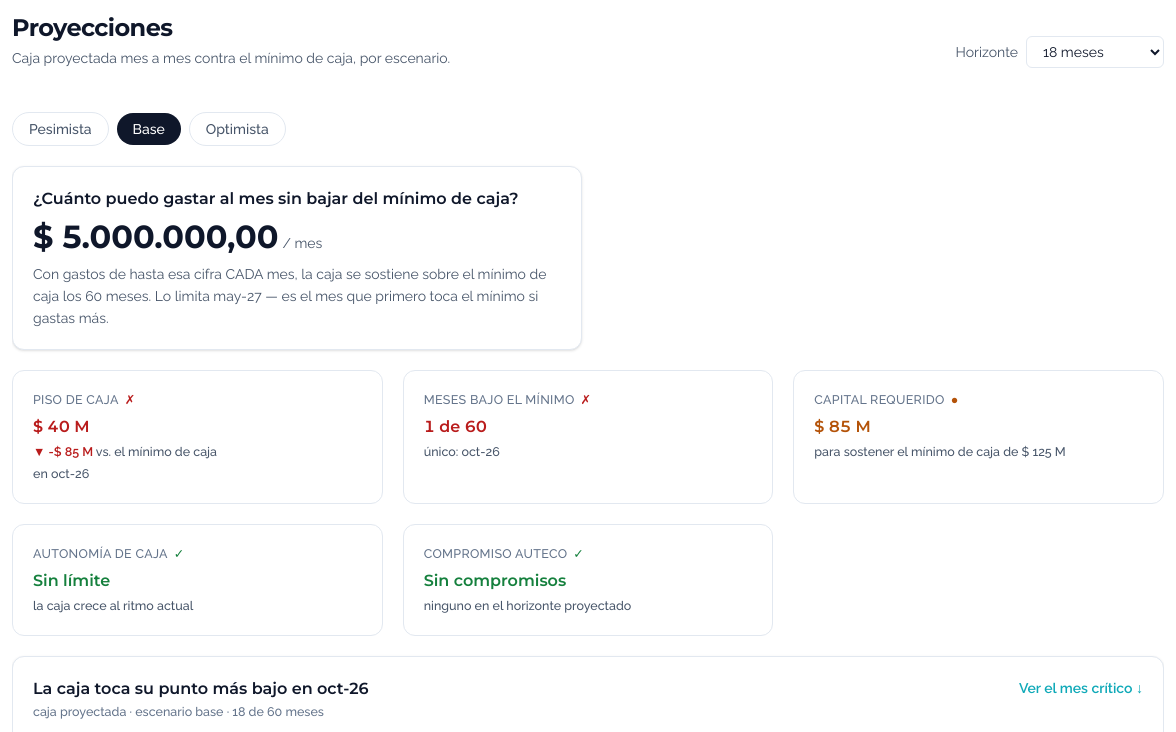
ProyeccionPage — F1.1 §2 › FiltroBarra: cambiar el horizonte muestra 'Limpiar' y restaura el default
Check: the text "Piso de caja" is shown, box [33, 392, 119, 407]
Check: the button "Limpiar" is not shown
Step 1. Select "todo (20 años)" in the dropdown labelled "Horizonte" → coordinates (1095, 52), box [1026, 36, 1164, 68]
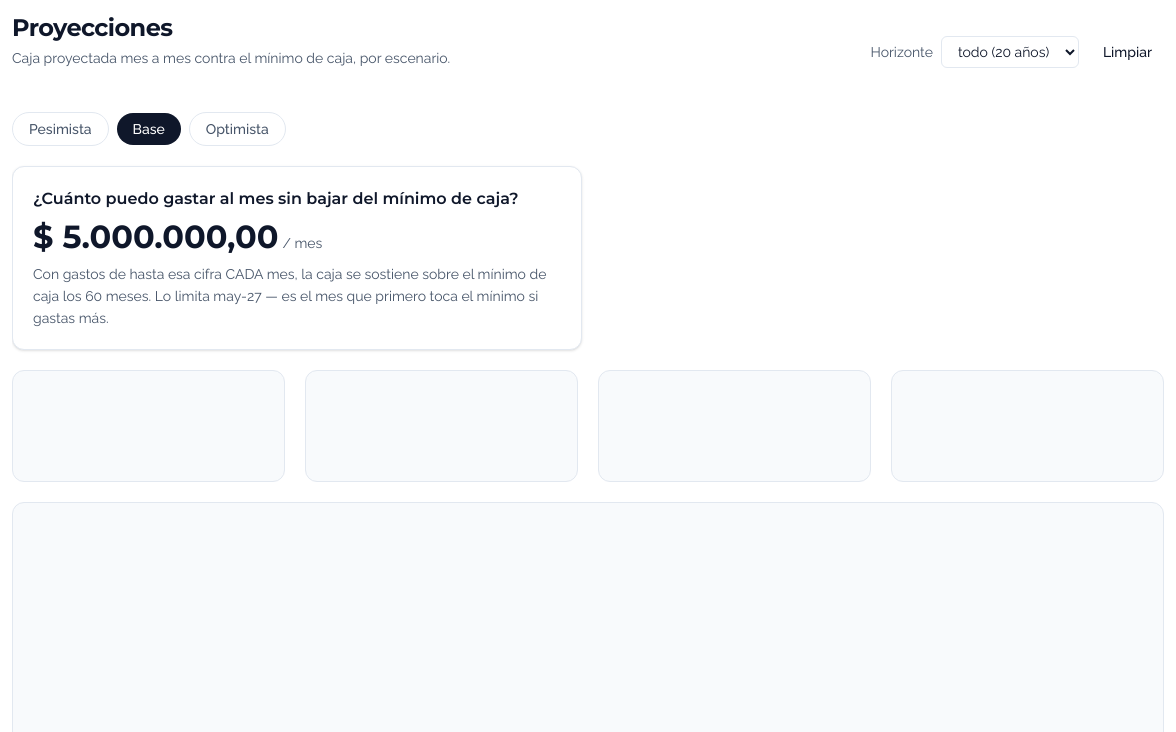
Step 2. Click the button "Limpiar" → coordinates (1127, 52), box [1091, 36, 1164, 68]
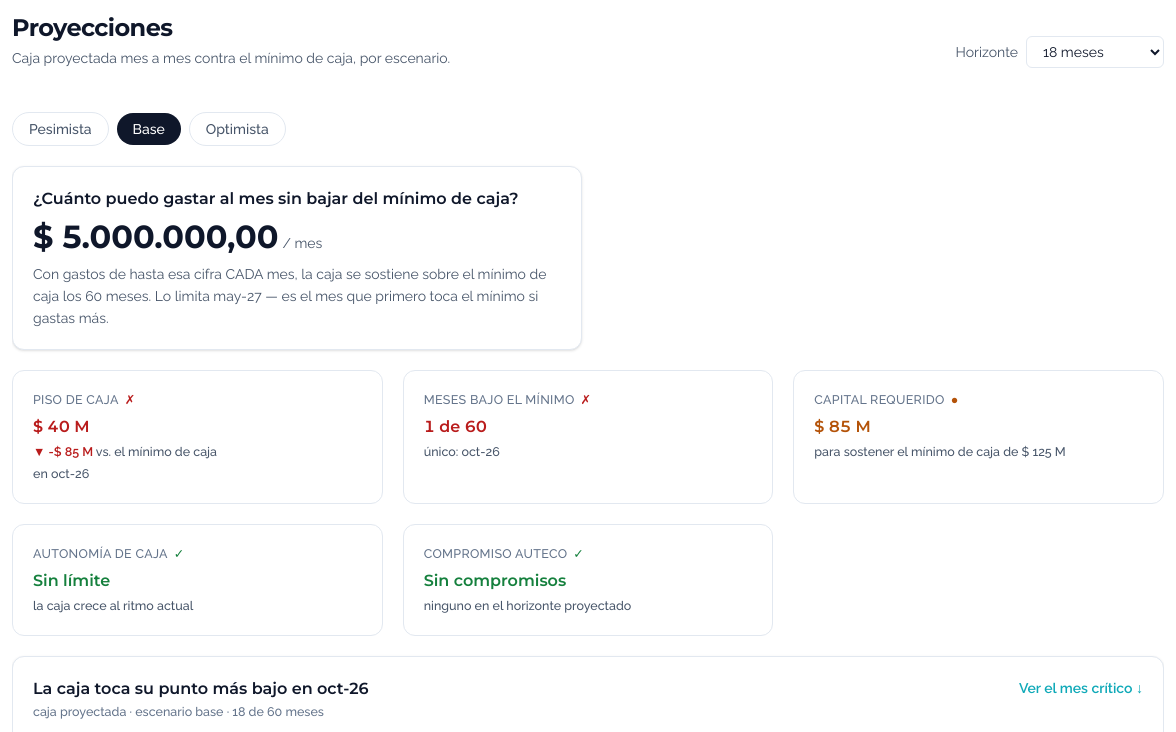
Check: the button "Limpiar" is gone
